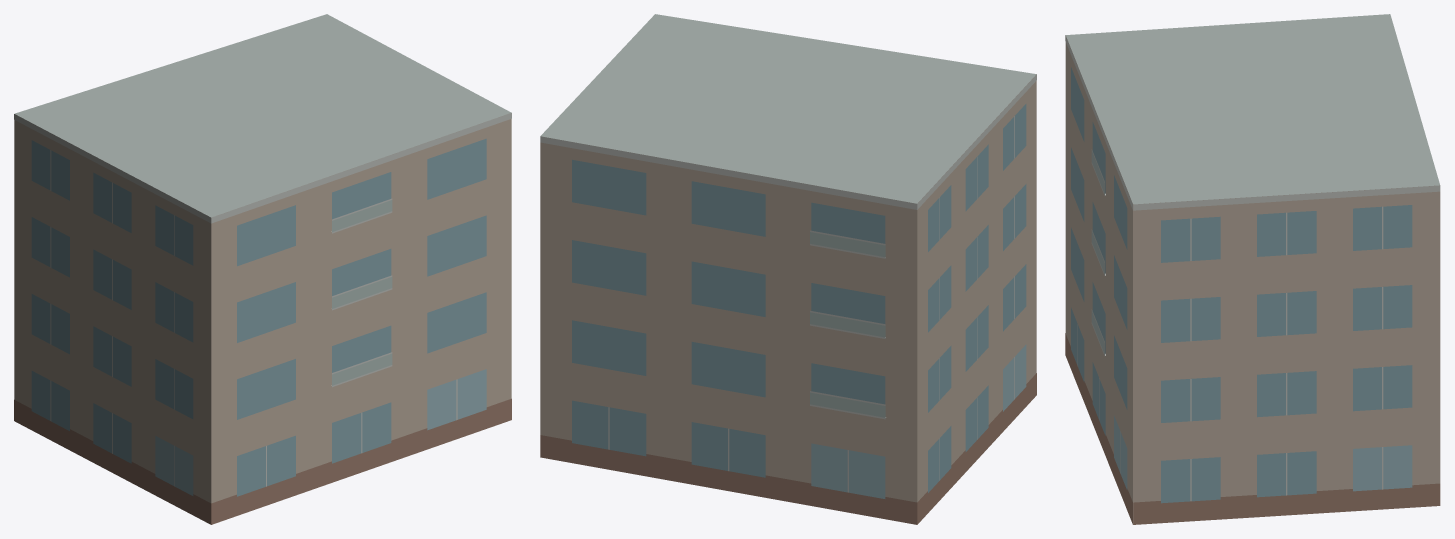
File: survey-upis-32972208.glb
The picture shows the model from 3 angles, left to right: view 1: azimuth 30°, elevation 25°; view 2: azimuth 150°, elevation 25°; view 3: azimuth 270°, elevation 25°; orthographic projection. The views are drawn at different scales.
Parts seen in each view (by area): view 1: survey-upis-32972208.tmp; view 2: survey-upis-32972208.tmp; view 3: survey-upis-32972208.tmp.
Boxes of the visible parts, x1,y1,x2,y2 form: survey-upis-32972208.tmp: (14,14,511,524); survey-upis-32972208.tmp: (540,14,1036,524); survey-upis-32972208.tmp: (1065,14,1440,524).
Size of the model in its own units: 16 by 12.55 by 13.31.
